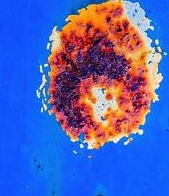Corrosion: (35, 1, 169, 159)
